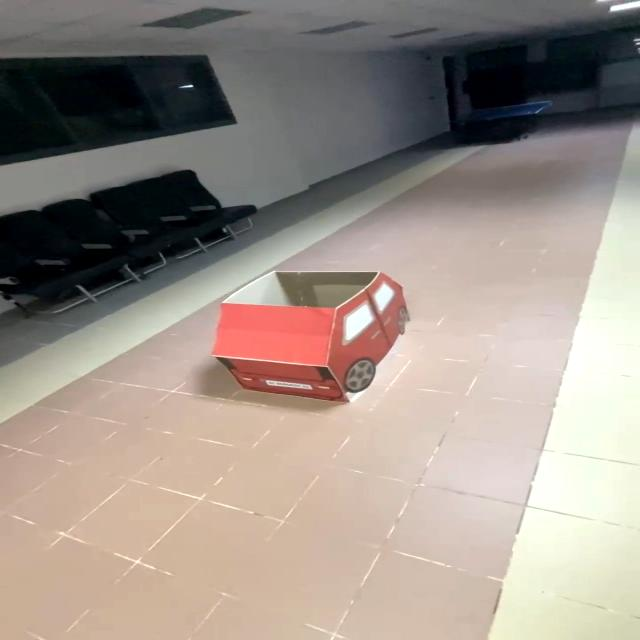red_car: (169, 249, 472, 422)
